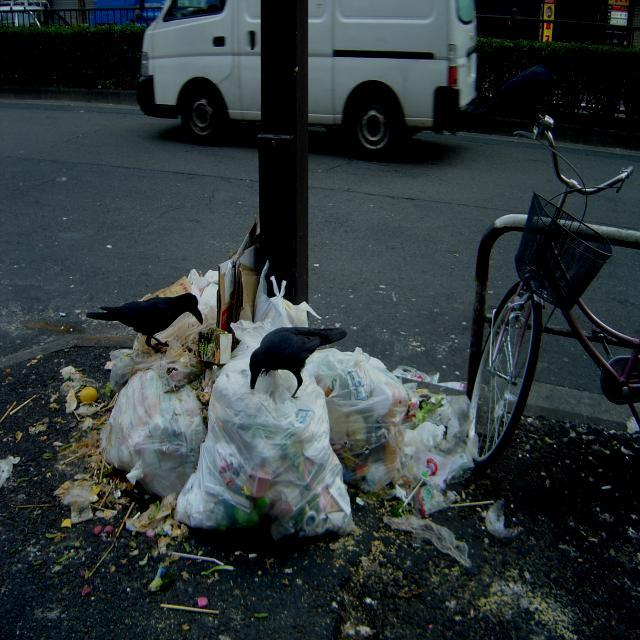high trash: (89, 228, 472, 538)
